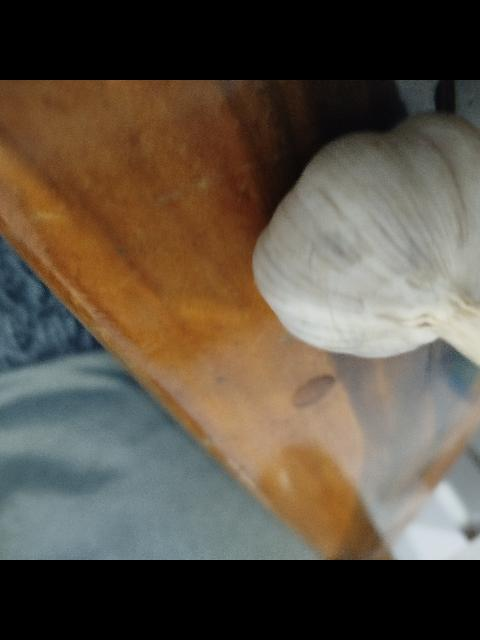garlic: (250, 111, 480, 385)
